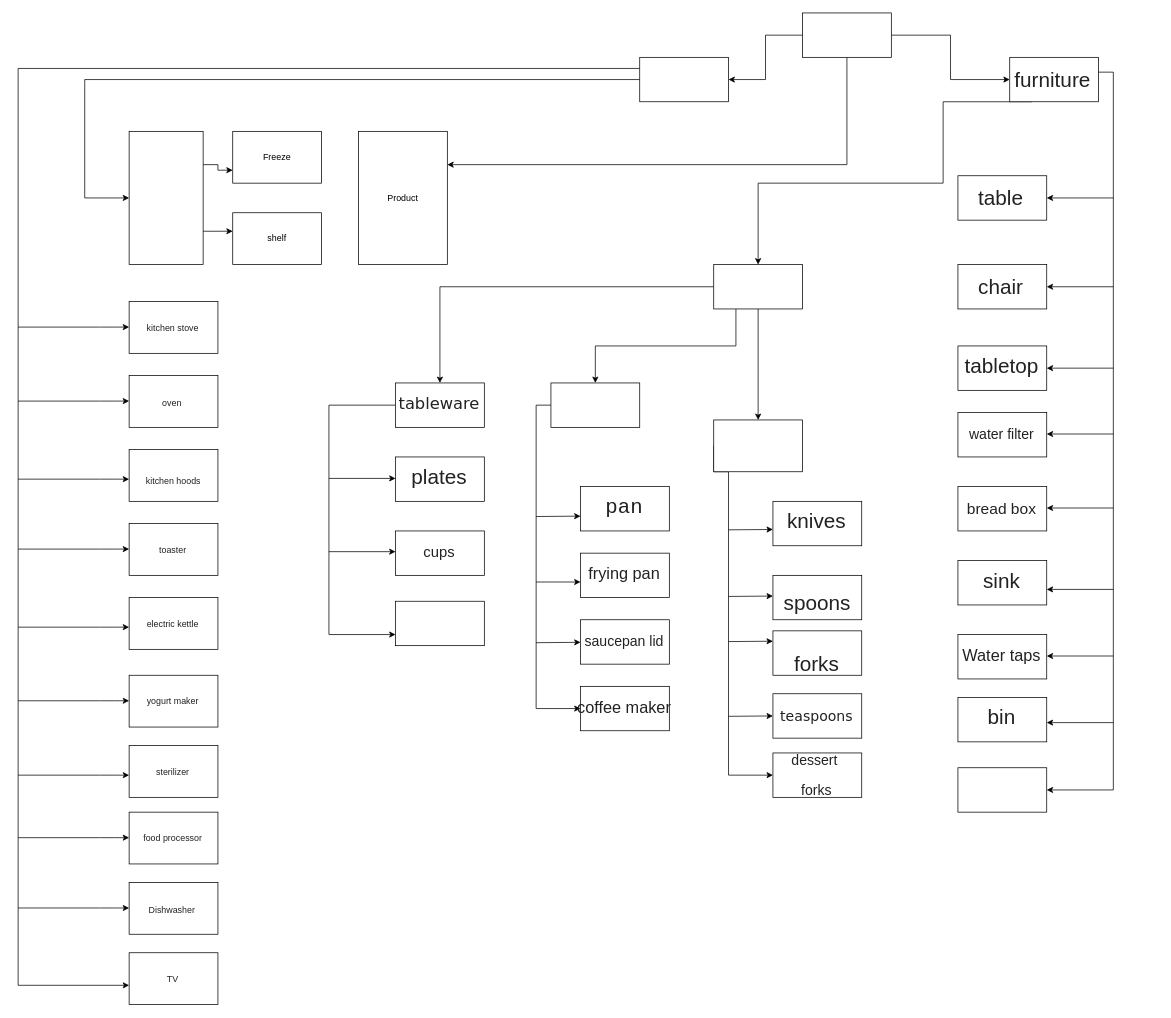
The diagram is 1171 pixels wide and 1018 high, and some of its shapes have lost their labels. The centre of each missing label's shape, as x and y in pixels:
"candy cane" goes at point 1002,789.
"cookware" goes at point 595,404.
"cupboard" goes at point 758,286.
"cutlery" goes at point 758,445.
"electrical appliances" goes at point 684,79.
"Fridge shelf products_list" goes at point 165,198.
"glasses" goes at point 439,623.
"kitchen" goes at point 846,34.
